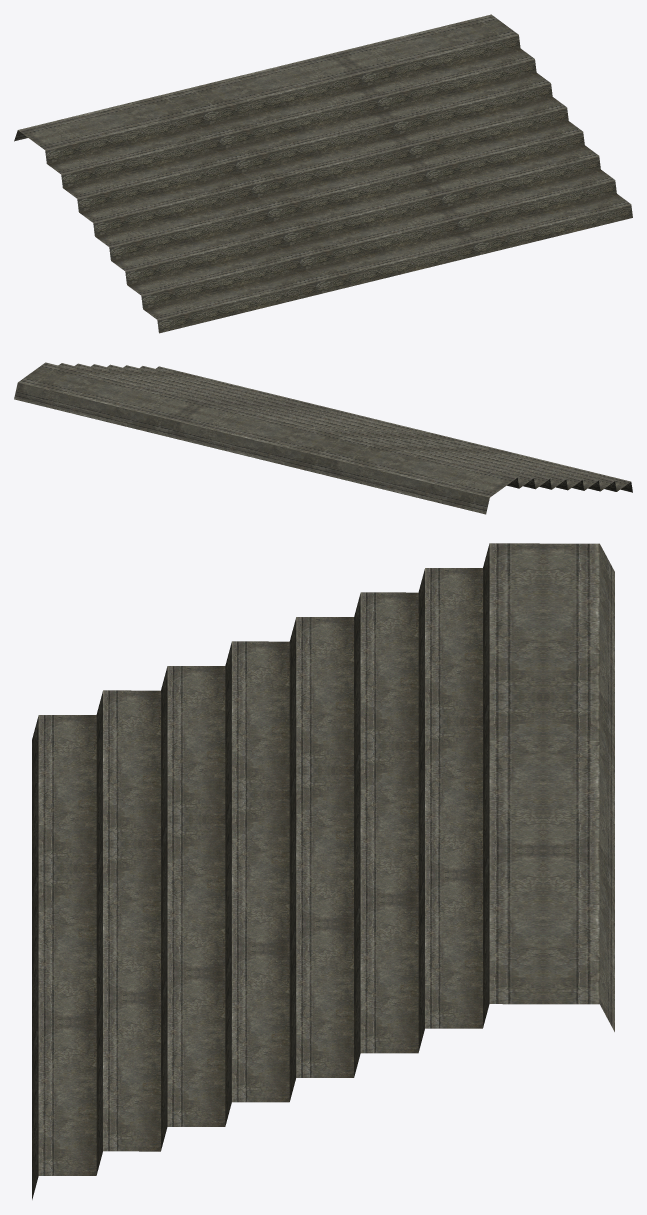
File: dawnmist_step01.fbx
The picture shows the model from 3 angles, top to bottom: view 1: azimuth 30°, elevation 25°; view 2: azimuth 150°, elevation 25°; view 3: azimuth 270°, elevation 25°; orthographic projection. The views are drawn at different scales.
Visible parts, largest first — view 1: DawnMist_step01; view 2: DawnMist_step01; view 3: DawnMist_step01.
Boxes of the visible parts, <box> form: DawnMist_step01: <box>14,14,632,333</box>; DawnMist_step01: <box>14,362,632,514</box>; DawnMist_step01: <box>32,543,614,1199</box>.
Bounding box in the file's own units: 22.29 × 4.44 × 11.89.
